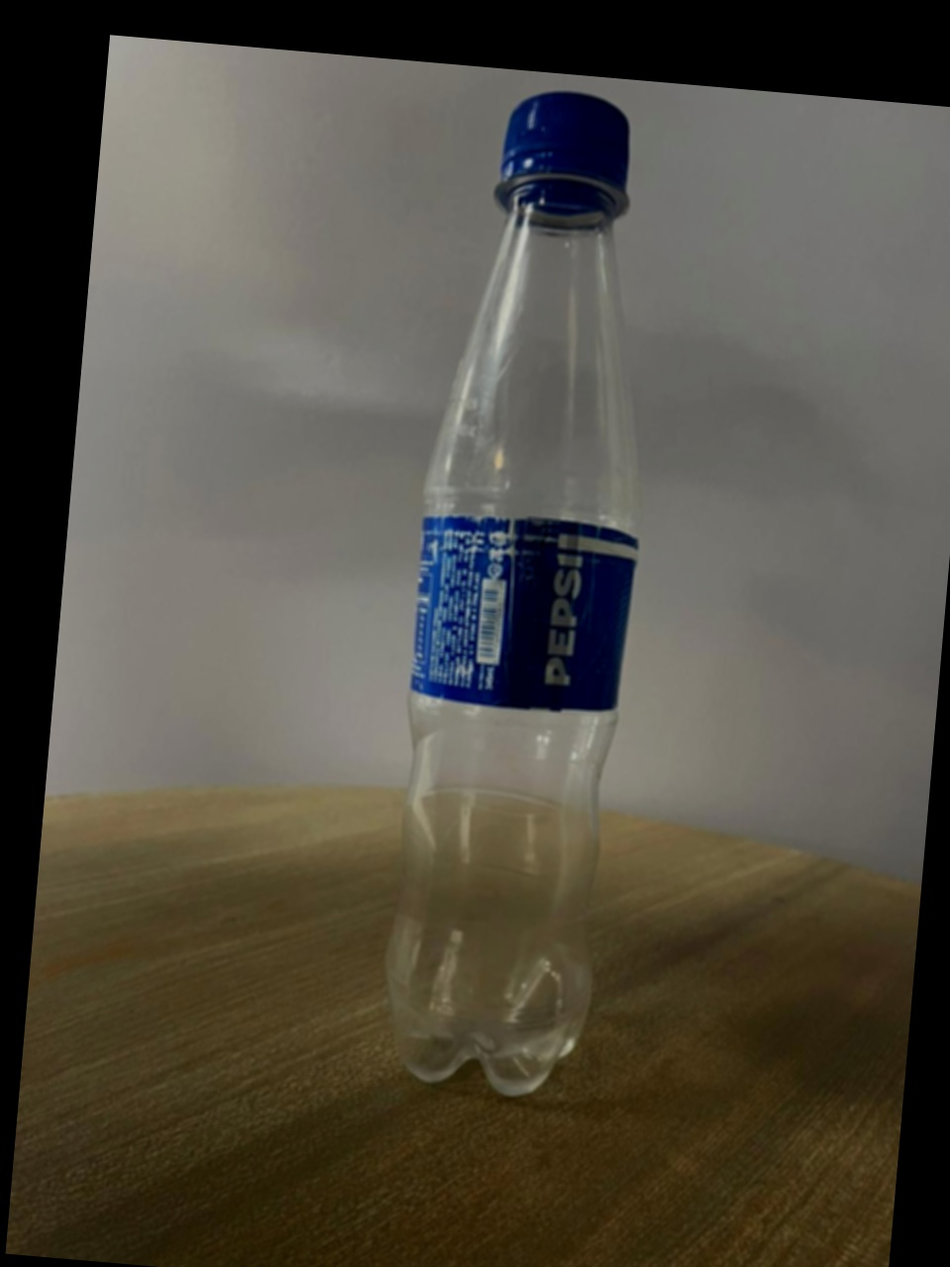Pepsi Bottle: (356, 83, 701, 1110), (360, 79, 694, 1113)
